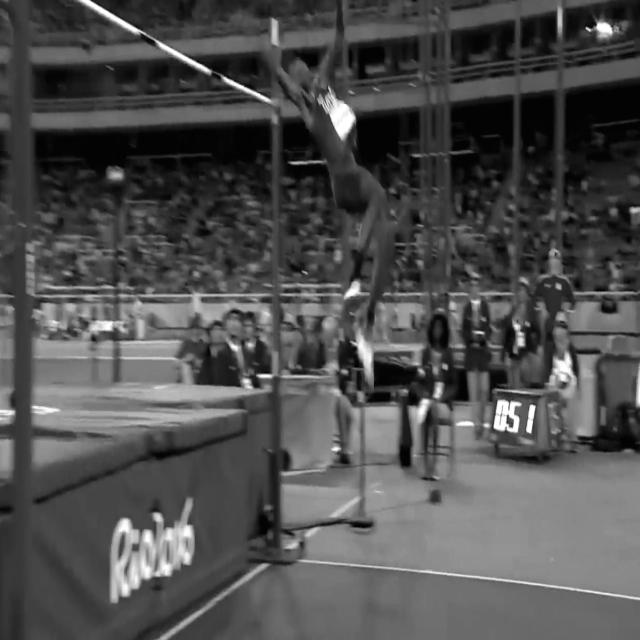jump: (262, 0, 393, 390)
